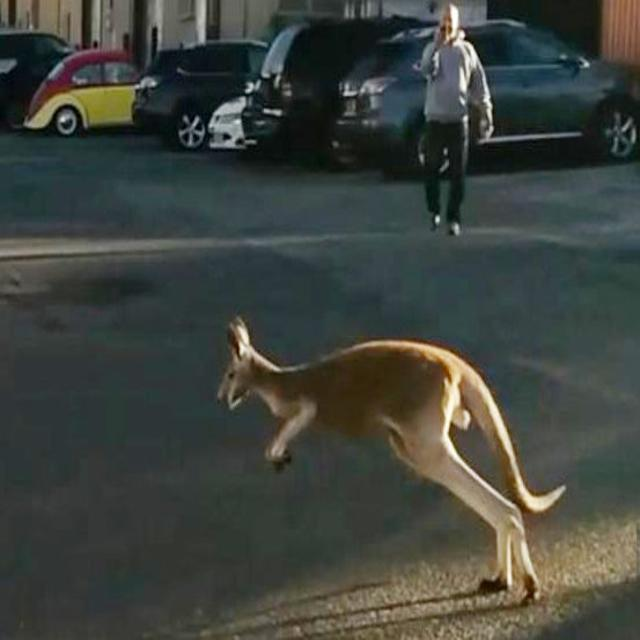kangaroo: (211, 306, 477, 506)
